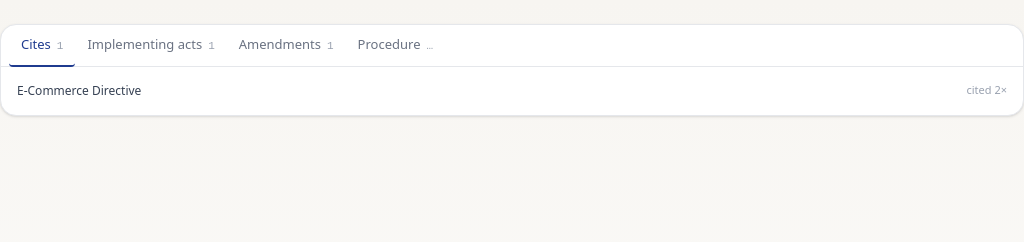
Test: MetadataPanel tabs › always shows Procedure and uses an ellipsis while it is loading
This screenshot has width=1024, height=242.
Click the tab "Procedure …". click: point(395, 46)
box: [346,25,445,66]
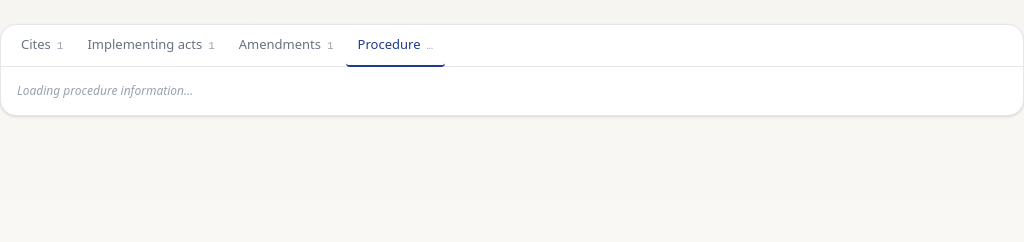
Check: the text "Loading procedure information…" is shown, box [17,82,193,98]
